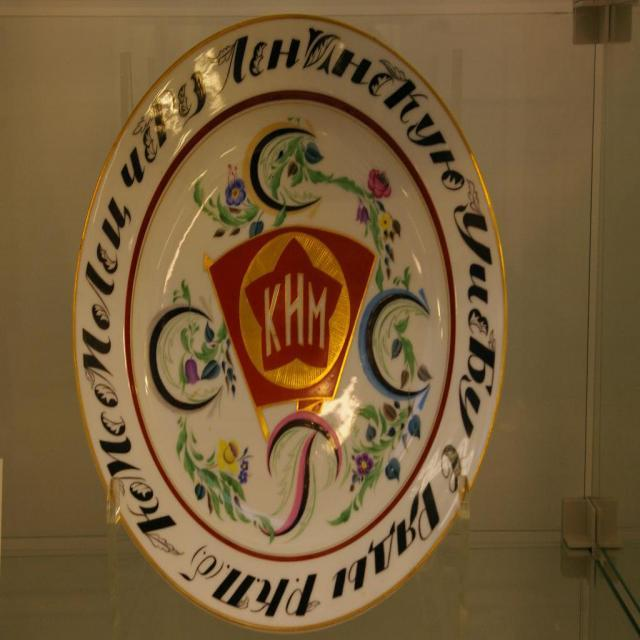ceramic plate: (69, 22, 514, 636)
